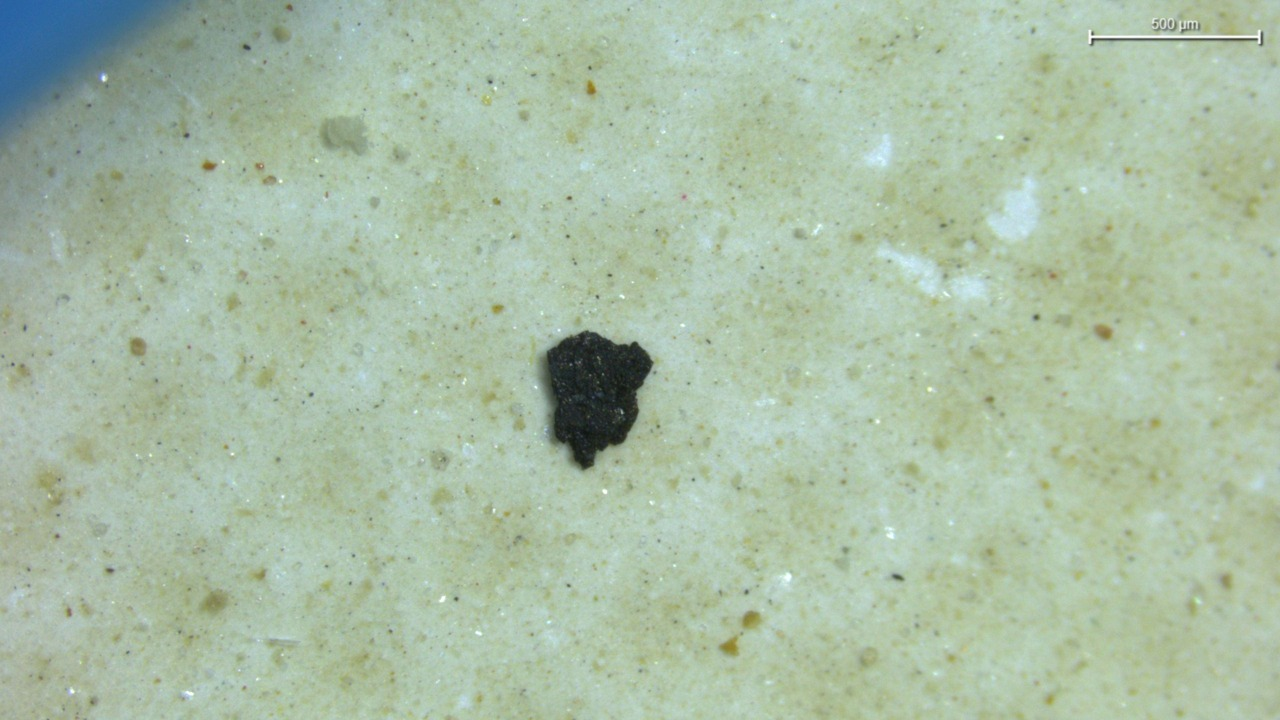microplastic_fragment: (547, 331, 652, 467), (320, 116, 368, 154)
